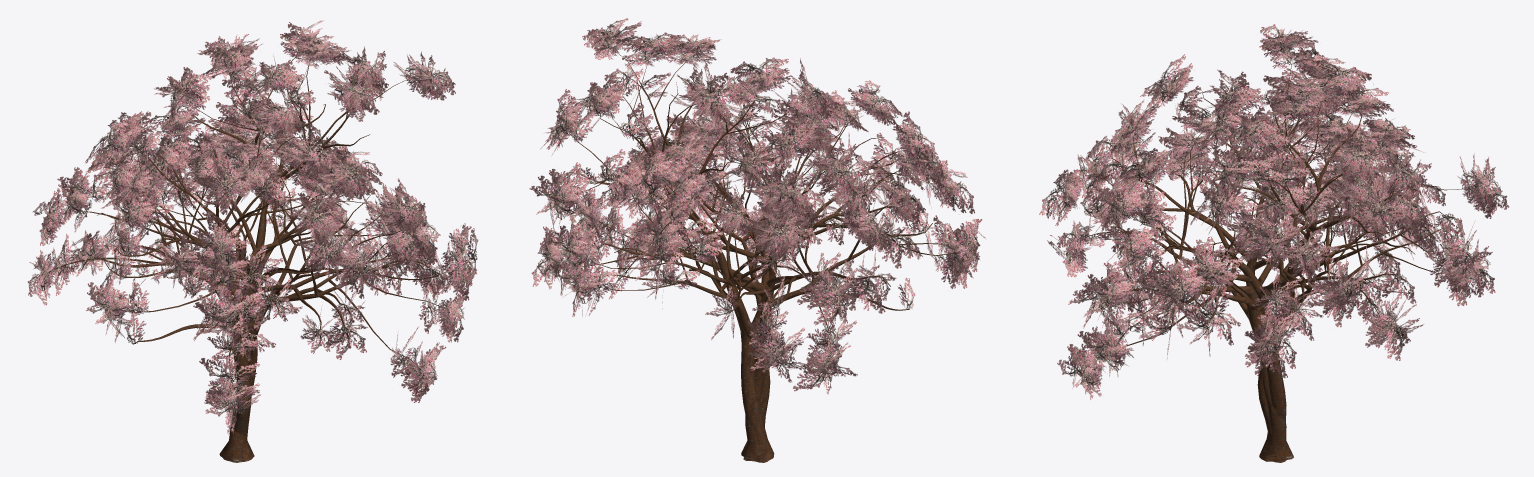
The model's file is Cherry2.gltf.
The picture shows the model from 3 angles, left to right: view 1: azimuth 30°, elevation 25°; view 2: azimuth 150°, elevation 25°; view 3: azimuth 270°, elevation 25°; orthographic projection. The views are drawn at different scales.
Visible parts, largest first — view 1: cherry_2_Tree_1Mat_0, cherry_2_Tree_0Mat_0; view 2: cherry_2_Tree_1Mat_0, cherry_2_Tree_0Mat_0; view 3: cherry_2_Tree_1Mat_0, cherry_2_Tree_0Mat_0.
Boxes of the visible parts, x1,y1,x2,y2 form: cherry_2_Tree_1Mat_0: [27, 20, 478, 434]; cherry_2_Tree_0Mat_0: [47, 56, 460, 462]; cherry_2_Tree_1Mat_0: [529, 18, 985, 394]; cherry_2_Tree_0Mat_0: [547, 48, 974, 462]; cherry_2_Tree_1Mat_0: [1039, 24, 1509, 399]; cherry_2_Tree_0Mat_0: [1077, 37, 1474, 462].
Size of the model in its own units: 185 by 181 by 191.
2 materials, 2 textured.
